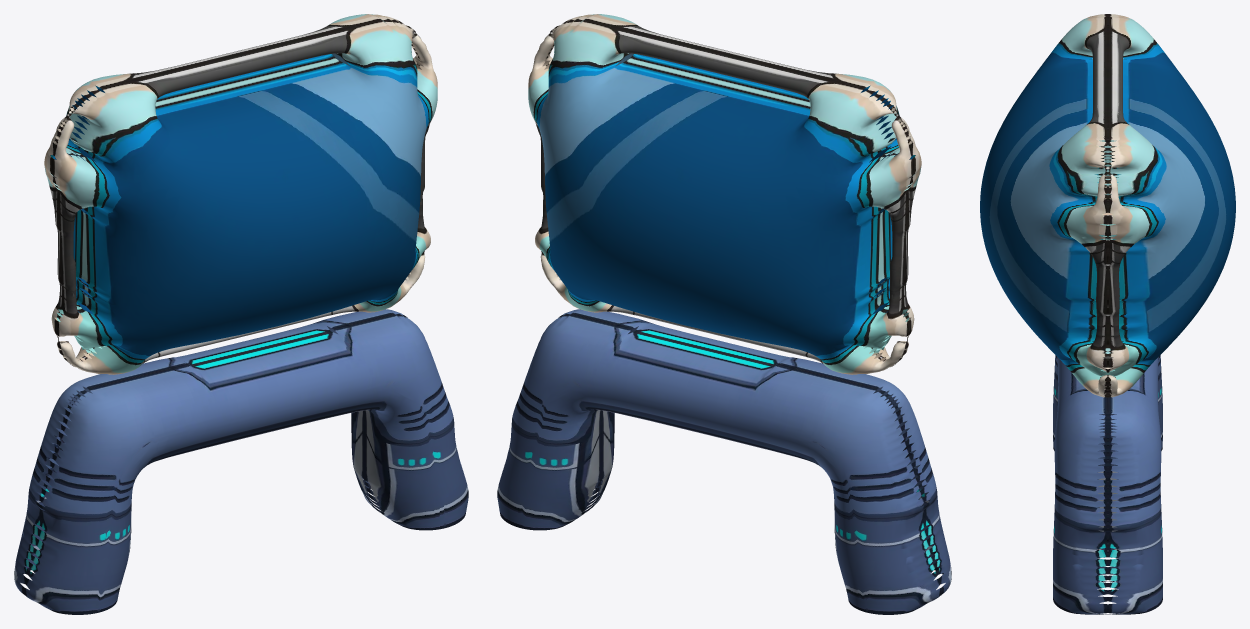
The model's file is monitor_station.glb.
3 renders of one model, left to right at view 1: azimuth 30°, elevation 25°; view 2: azimuth 150°, elevation 25°; view 3: azimuth 270°, elevation 25°, orthographic. The views are drawn at different scales.
Visible parts, largest first — view 1: monitor_station; view 2: monitor_station; view 3: monitor_station.
Part boxes in pixels (x1,y1,x2,y2): monitor_station: (14, 14, 468, 614); monitor_station: (497, 14, 951, 614); monitor_station: (980, 14, 1235, 614).
Size of the model in its own units: 0.9881 by 1.07 by 0.5588.
Materials: 1 (1 with a texture image).
